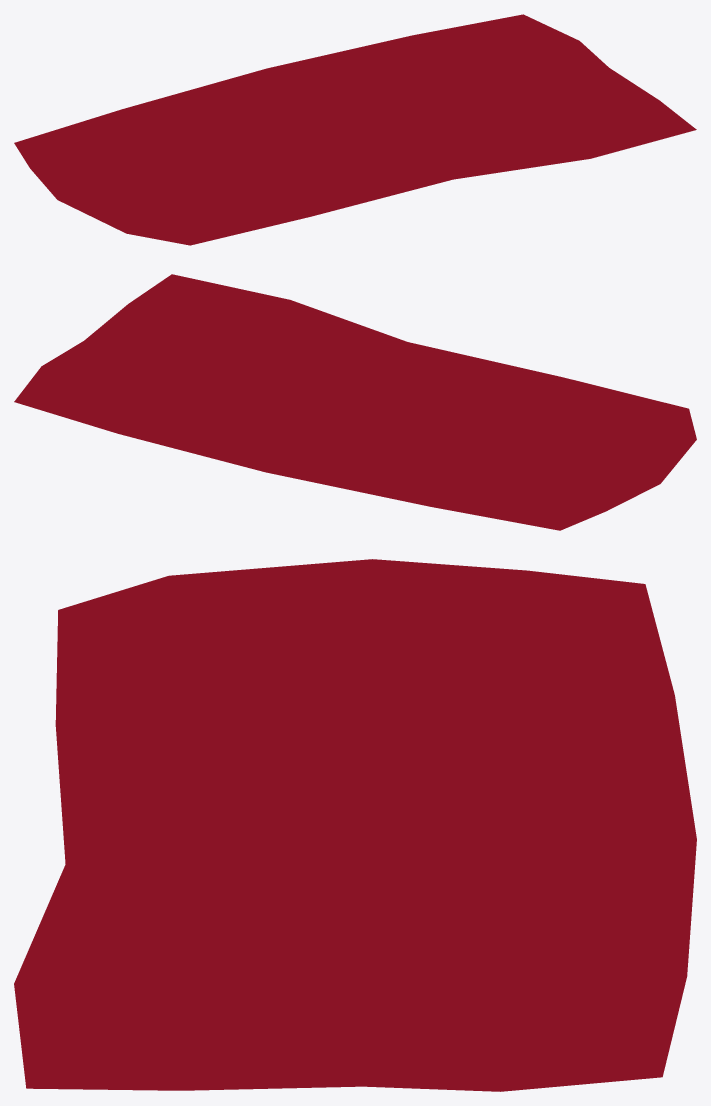
File: Carpet001Var001.fbx
The picture shows the model from 3 angles, top to bottom: view 1: azimuth 30°, elevation 25°; view 2: azimuth 150°, elevation 25°; view 3: azimuth 270°, elevation 25°; orthographic projection. The views are drawn at different scales.
Visible parts, largest first — view 1: Carpet001Var001; view 2: Carpet001Var001; view 3: Carpet001Var001.
Boxes of the visible parts, x1,y1,x2,y2 form: Carpet001Var001: [14, 14, 696, 245]; Carpet001Var001: [14, 274, 696, 530]; Carpet001Var001: [14, 559, 696, 1091].
Size of the model in its own units: 427 by 3.77e-05 by 232.
